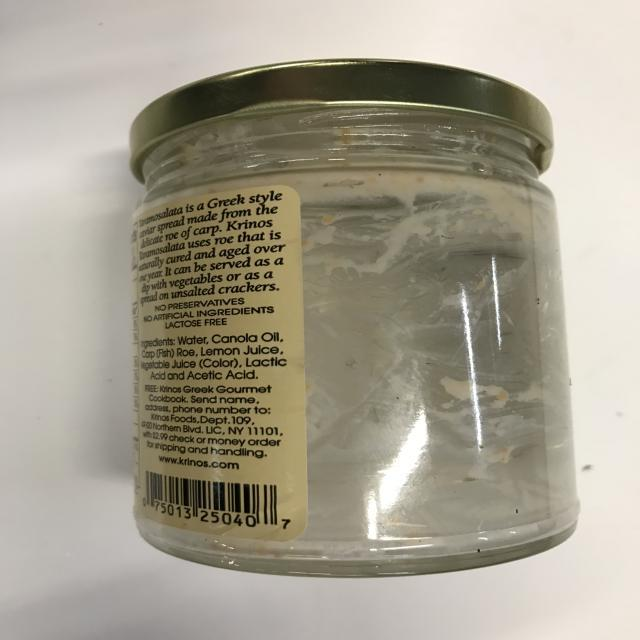glass: (127, 58, 582, 574)
